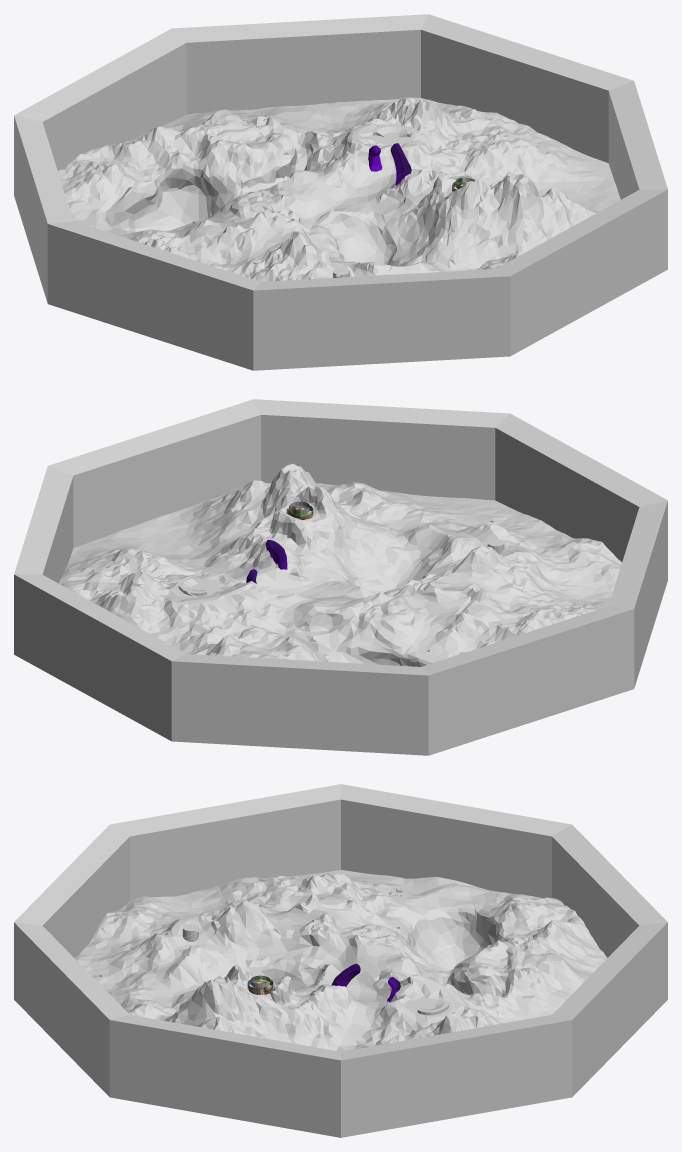
3 views of the same model, one above another, from view 1: azimuth 30°, elevation 25°; view 2: azimuth 150°, elevation 25°; view 3: azimuth 270°, elevation 25° (orthographic). The views are drawn at different scales.
Visible parts, largest first — view 1: land limit, coll area .001, coll area .002, coll area .003, coll area, Object_20.001, Cylinder.034; view 2: land limit, coll area .001, coll area .003, coll area, coll area .002, Cylinder.034, Object_20.001; view 3: land limit, coll area .001, coll area .002, coll area, coll area .003, Cylinder.034, Object_20.001.
Boxes of the visible parts, left/top/right/bottom form: land limit: left=14, top=14, right=667, bottom=370; coll area .001: left=212, top=118, right=490, bottom=278; coll area .002: left=72, top=97, right=424, bottom=233; coll area .003: left=375, top=98, right=620, bottom=275; coll area: left=58, top=162, right=379, bottom=281; Object_20.001: left=368, top=143, right=411, bottom=185; Cylinder.034: left=370, top=124, right=414, bottom=144; land limit: left=14, top=399, right=667, bottom=755; coll area .001: left=162, top=516, right=513, bottom=661; coll area .003: left=59, top=463, right=560, bottom=614; coll area: left=427, top=523, right=621, bottom=655; coll area .002: left=115, top=600, right=455, bottom=666; Cylinder.034: left=174, top=577, right=219, bottom=597; Object_20.001: left=246, top=539, right=287, bottom=583; land limit: left=14, top=784, right=667, bottom=1137; coll area .001: left=178, top=893, right=476, bottom=1051; coll area .002: left=379, top=899, right=607, bottom=1024; coll area: left=83, top=870, right=568, bottom=973; coll area .003: left=75, top=936, right=494, bottom=1048; Cylinder.034: left=408, top=996, right=452, bottom=1016; Object_20.001: left=331, top=963, right=400, bottom=1002.
Size of what is drawn, in the model's own units: 526 by 98.97 by 526.
3 materials, 2 textured.
